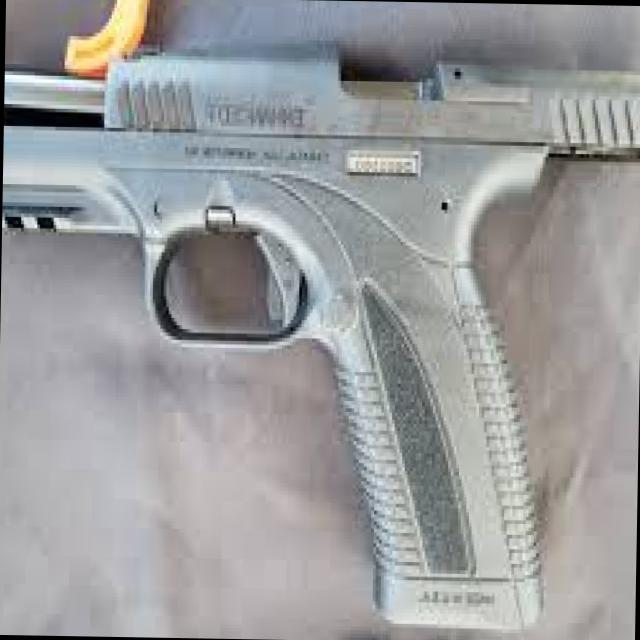Gun: (0, 23, 640, 638)
